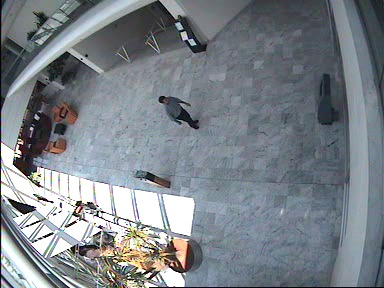person: (158, 96, 199, 128), (70, 200, 101, 218)
